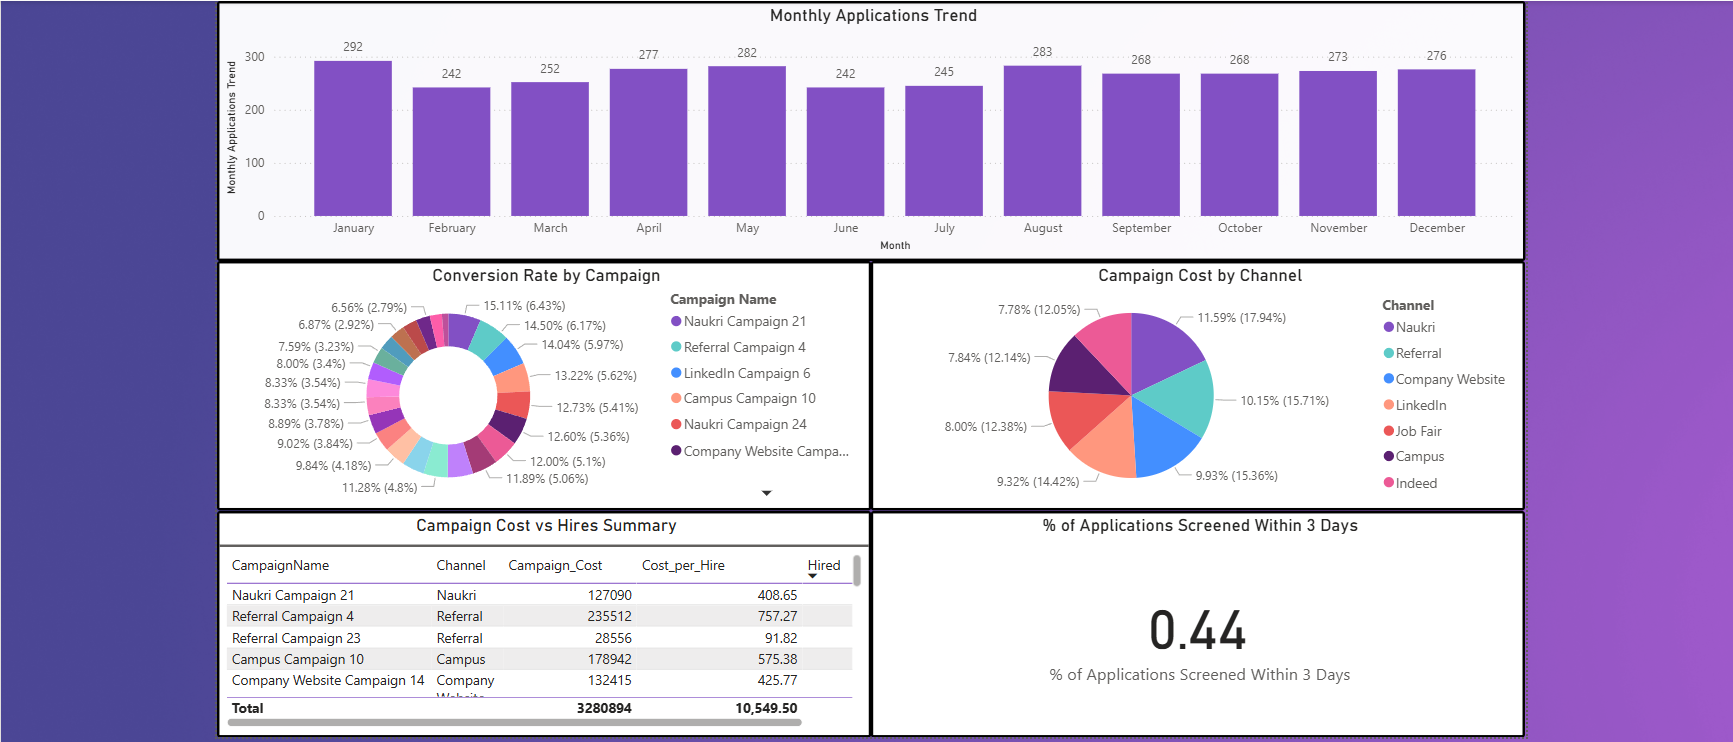

What the dashboard file says about the page in this screenshot:
{"tool":"powerbi","page":{"name":"Campaign Performance","canvas":[1280,720],"ordinal":1},"visuals":[{"type":"clusteredColumnChart","title":"Monthly Applications Trend","fields":{"Y":["Applications.Applications_by_AppDate"],"Category":["Date.Date.Variation.Date Hierarchy.Month"]},"box":[0,0,1280,254.3],"z":0},{"type":"donutChart","title":"Conversion Rate by Campaign","fields":{"Category":["Campaigns.CampaignName"],"Y":["Applications.App_to_Hire_%"]},"box":[0,254.3,640,244.3],"z":1000},{"type":"tableEx","title":"Campaign Cost vs Hires Summary","fields":{"Values":["Campaigns.CampaignName","Campaigns.Channel","Applications.Campaign_Cost","Applications.Cost_per_Hire","Applications.Hired"]},"box":[0,498.6,640,221.4],"z":2000},{"type":"card","title":" % of Applications Screened Within 3 Days","fields":{"Values":["Applications.SLA_Screen_within_3d_%"]},"box":[640,498.6,640,221.4],"z":3000},{"type":"pieChart","title":"Campaign Cost by Channel","fields":{"Category":["Campaigns.Channel"],"Y":["Applications.App_to_Hire_%"]},"box":[640,254.3,640,244.3],"z":4000}]}

Visuals, with their boxes on the page's 1280x720 design canvas (x1, y1, x2, y2). These are canvas units, not pixel positions in the 1733x742 screenshot, which may show the page scaled, cropped or inside an application window:
"Monthly Applications Trend" clusteredColumnChart: (0, 0, 1280, 254)
"Conversion Rate by Campaign" donutChart: (0, 254, 640, 499)
"Campaign Cost vs Hires Summary" tableEx: (0, 499, 640, 720)
" % of Applications Screened Within 3 Days" card: (640, 499, 1280, 720)
"Campaign Cost by Channel" pieChart: (640, 254, 1280, 499)
